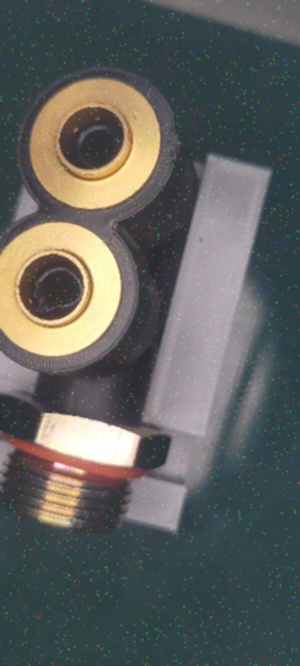bump: (165, 116, 185, 155)
off-centered: (33, 257, 91, 315)
white mark: (66, 393, 84, 410)
